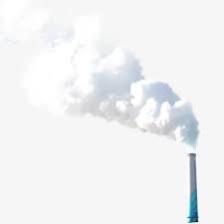smoke: (25, 33, 200, 151)
